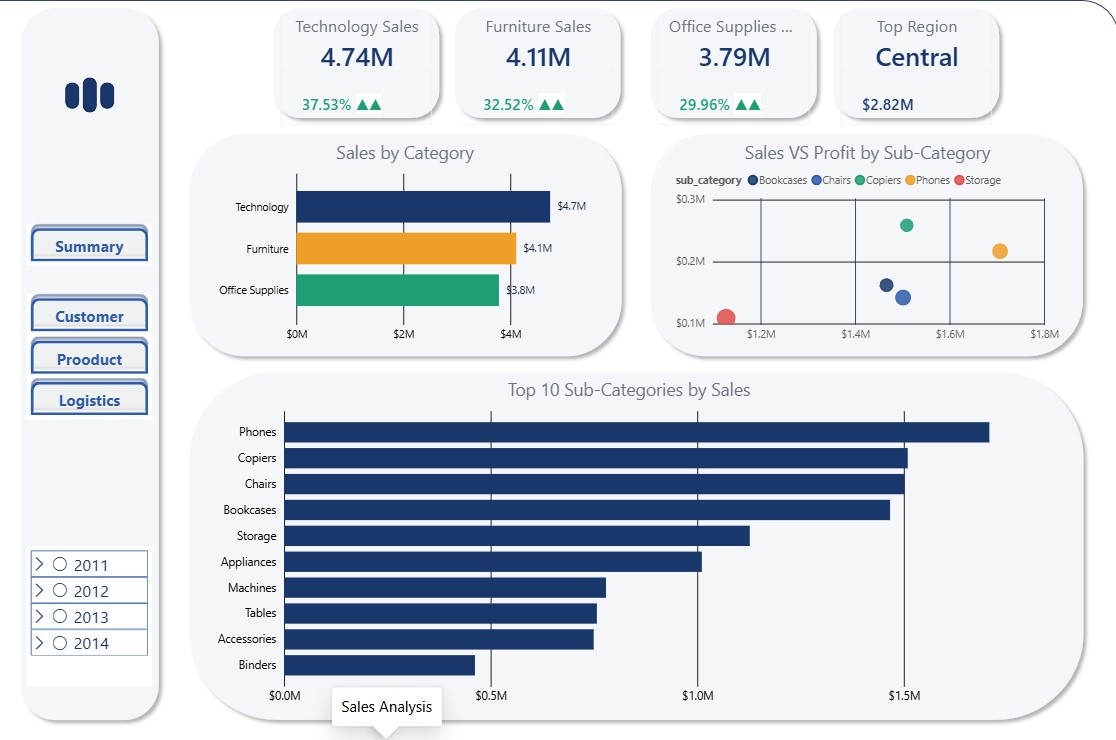

Layout of this report page (visuals, bound fields, positions):
{"tool":"powerbi","page":{"name":"Sales Analysis","canvas":[1280,850],"ordinal":1},"visuals":[{"type":"shape","box":[0,0,1280,848],"z":0},{"type":"shape","box":[16,0,176,832],"z":1000},{"type":"shape","box":[736,144,512,272],"z":2000},{"type":"shape","box":[208,416,1040,416],"z":3000},{"type":"shape","box":[208,144,512,272],"z":4000},{"type":"shape","box":[304,0,208,144],"z":5000},{"type":"shape","box":[736,0,208,144],"z":6000},{"type":"shape","box":[512,0,208,144],"z":7000},{"type":"shape","box":[944,0,208,144],"z":8000},{"type":"cardVisual","fields":{"Data":["KPIs.Technology Sales"]},"box":[304,0,208,160],"z":9000},{"type":"cardVisual","fields":{"Data":["KPIs.Furniture Sales"]},"box":[512,0,208,160],"z":10000},{"type":"cardVisual","fields":{"Data":["KPIs.Office Supplies Sales"]},"box":[736,0,208,160],"z":11000},{"type":"cardVisual","fields":{"Data":["KPIs.Top Region"]},"box":[944,0,208,160],"z":12000},{"type":"scatterChart","title":"Sales VS Profit  by Sub-Category ","fields":{"X":["Sum(FactSales.sales)"],"Series":["FactSales.sub_category"],"Y":["Sum(FactSales.profit)"],"Size":["Sum(FactSales.year)"]},"box":[768,160,448,240],"z":13000},{"type":"clusteredBarChart","title":"Sales by Category","fields":{"Category":["FactSales.category"],"Y":["Sum(FactSales.sales)"]},"box":[240,160,448,240],"z":14000},{"type":"clusteredBarChart","title":"Top 10 Sub-Categories by Sales","fields":{"Category":["FactSales.sub_category"],"Y":["Sum(FactSales.sales)"]},"box":[240,432,960,384],"z":15000},{"type":"listSlicer","fields":{"Values":["Date Table.Date.Variation.Date Hierarchy.Year","Date Table.Date.Variation.Date Hierarchy.Quarter","Date Table.Date.Variation.Date Hierarchy.Month","Date Table.Date.Variation.Date Hierarchy.Day"]},"box":[32,624,144,160],"z":16000},{"type":"actionButton","box":[32,432,144,48],"z":17000},{"type":"actionButton","box":[32,384,144,48],"z":18000},{"type":"actionButton","box":[32,336,144,48],"z":19000},{"type":"actionButton","box":[32,256,144,48],"z":20000},{"type":"shape","box":[96,88,16,40],"z":21000},{"type":"shape","box":[116,94,16,30],"z":22000},{"type":"shape","box":[76,94,16,30],"z":23000}]}

Visuals, with their boxes in screenshot pixels (x1, y1, x2, y2), scaled from the page's 1280x850 canvas onto the 1116x740 screenshot:
shape: locate(0, 0, 1115, 738)
shape: locate(14, 0, 167, 724)
shape: locate(642, 125, 1088, 362)
shape: locate(181, 362, 1088, 724)
shape: locate(181, 125, 628, 362)
shape: locate(265, 0, 446, 125)
shape: locate(642, 0, 823, 125)
shape: locate(446, 0, 628, 125)
shape: locate(823, 0, 1004, 125)
cardVisual - KPIs.Technology Sales: locate(265, 0, 446, 139)
cardVisual - KPIs.Furniture Sales: locate(446, 0, 628, 139)
cardVisual - KPIs.Office Supplies Sales: locate(642, 0, 823, 139)
cardVisual - KPIs.Top Region: locate(823, 0, 1004, 139)
"Sales VS Profit  by Sub-Category " scatterChart: locate(670, 139, 1060, 348)
"Sales by Category" clusteredBarChart: locate(209, 139, 600, 348)
"Top 10 Sub-Categories by Sales" clusteredBarChart: locate(209, 376, 1046, 710)
listSlicer - Date Table.Date.Variation.Date Hierarchy.Year x Date Table.Date.Variation.Date Hierarchy.Quarter: locate(28, 543, 153, 683)
actionButton: locate(28, 376, 153, 418)
actionButton: locate(28, 334, 153, 376)
actionButton: locate(28, 293, 153, 334)
actionButton: locate(28, 223, 153, 265)
shape: locate(84, 77, 98, 111)
shape: locate(101, 82, 115, 108)
shape: locate(66, 82, 80, 108)
